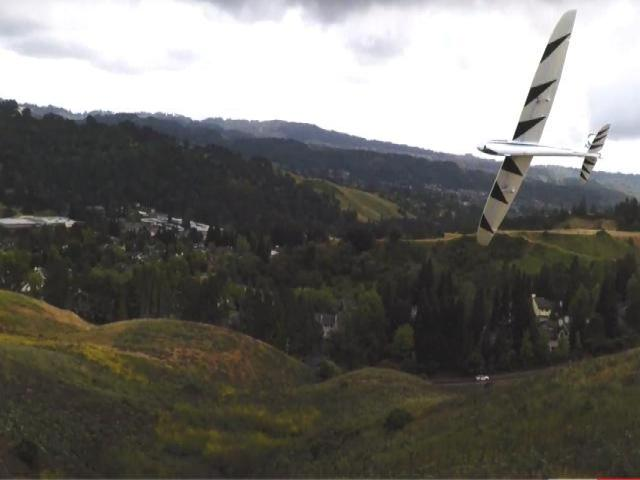iha: (473, 11, 617, 248)
